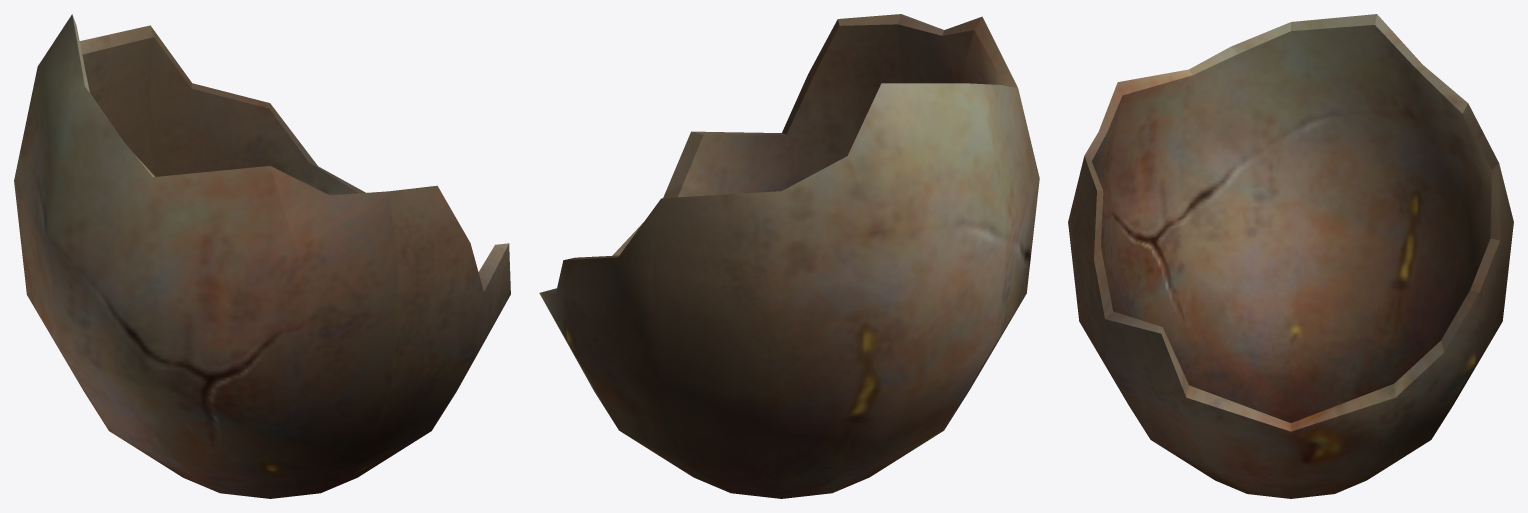
The model's file is D_longdan007.fbx.
3 views of the same model, side by side, from view 1: azimuth 30°, elevation 25°; view 2: azimuth 150°, elevation 25°; view 3: azimuth 270°, elevation 25° (orthographic). The views are drawn at different scales.
Parts seen in each view (by area): view 1: D_longdan007; view 2: D_longdan007; view 3: D_longdan007.
Part boxes in pixels (x1,y1,x2,y2): D_longdan007: [14, 14, 510, 498]; D_longdan007: [539, 14, 1039, 498]; D_longdan007: [1068, 14, 1513, 498].
Bounding box in the file's own units: 417 × 449 × 448.
